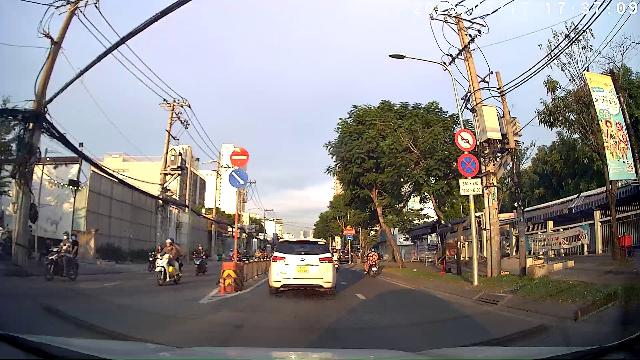128-cam-su-dung-coi: (454, 129, 476, 151)
130-cam-dung-va-do-xe: (458, 153, 480, 177)
